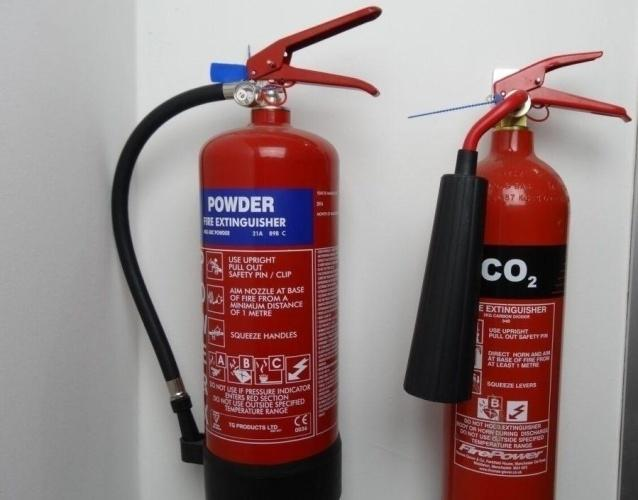APAR: (197, 5, 379, 499), (440, 48, 632, 499)
